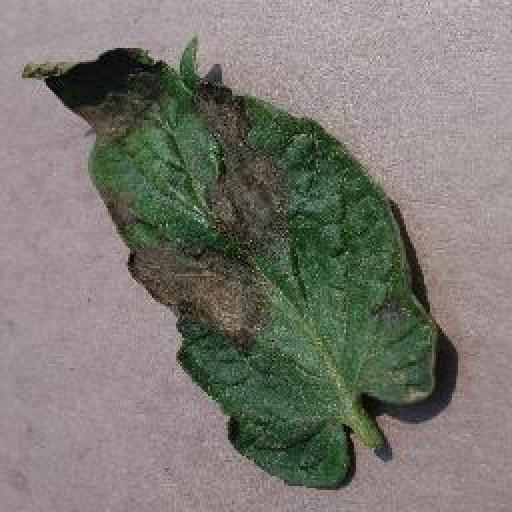Late Blight: (23, 40, 441, 491)
